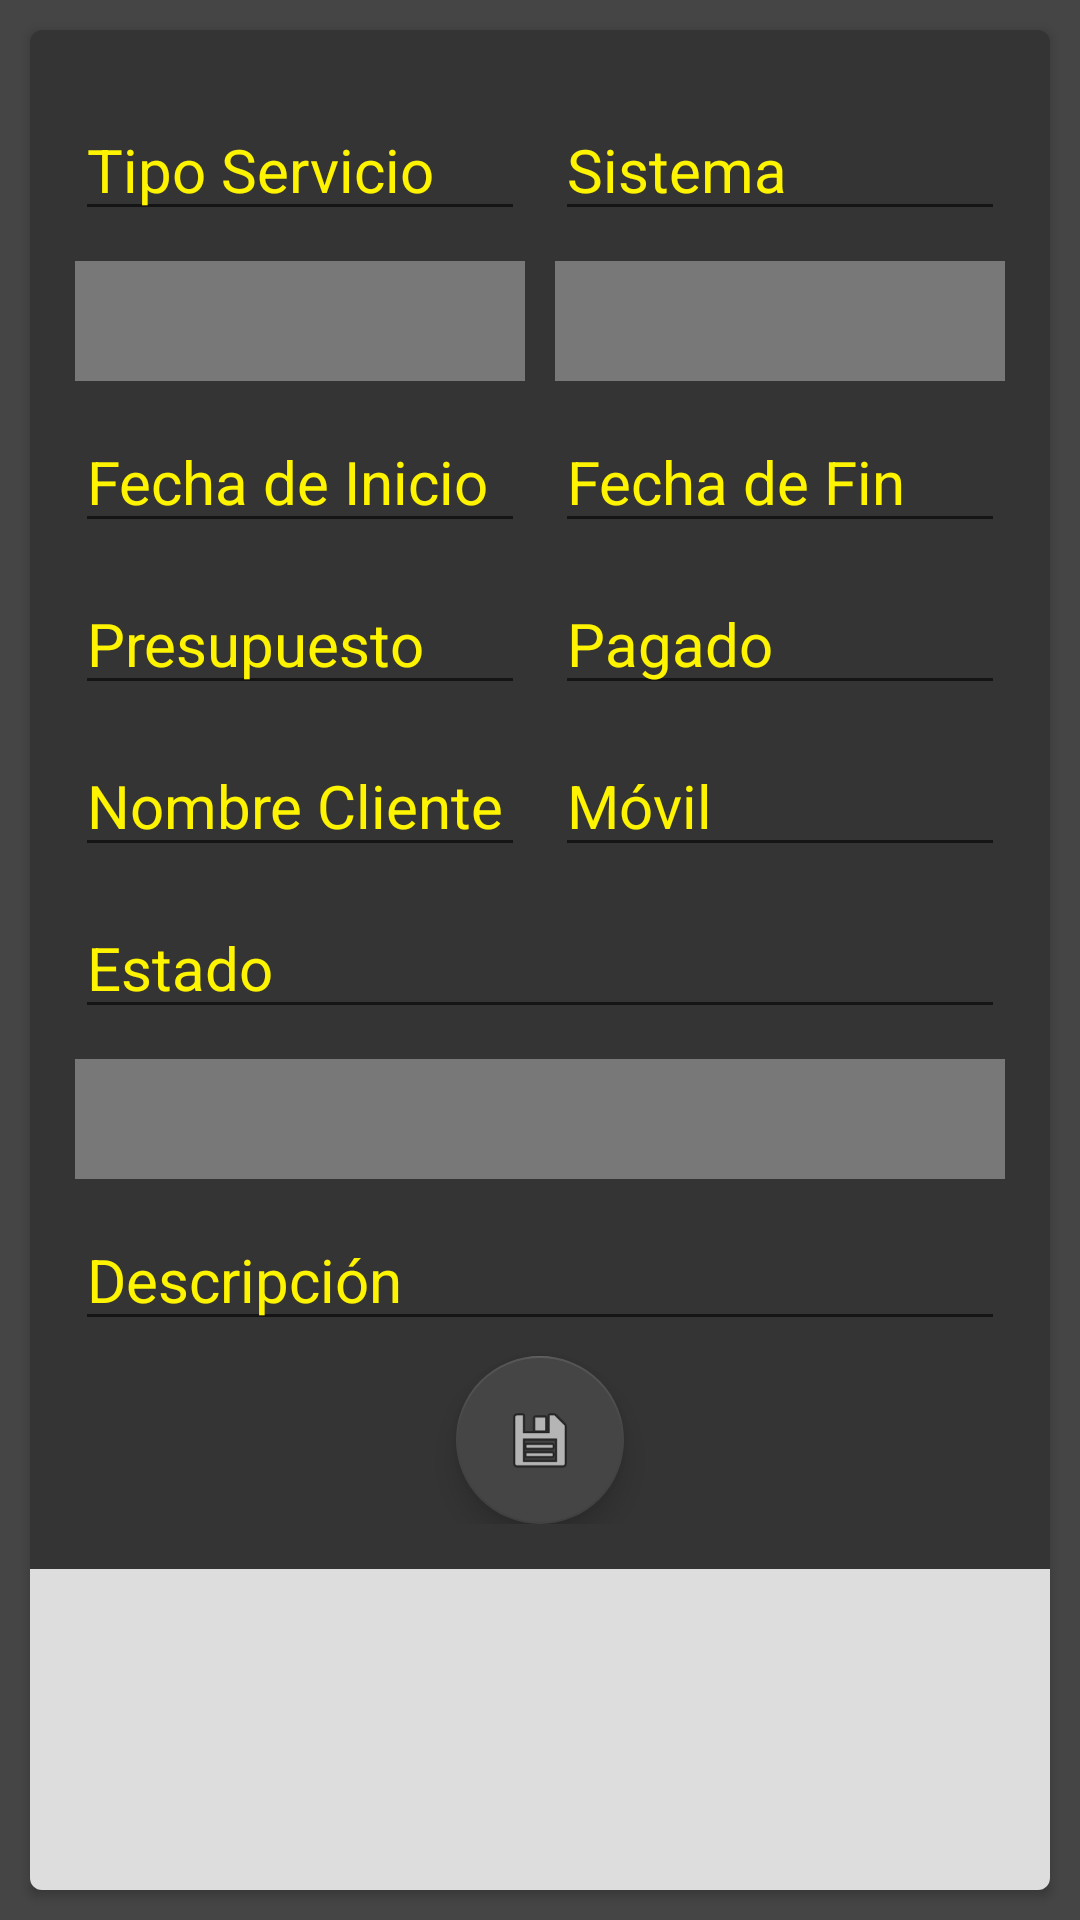

Where to tap for icons on this 1080px x 1920px app screen, as (x,y):
save: (540,1440)
